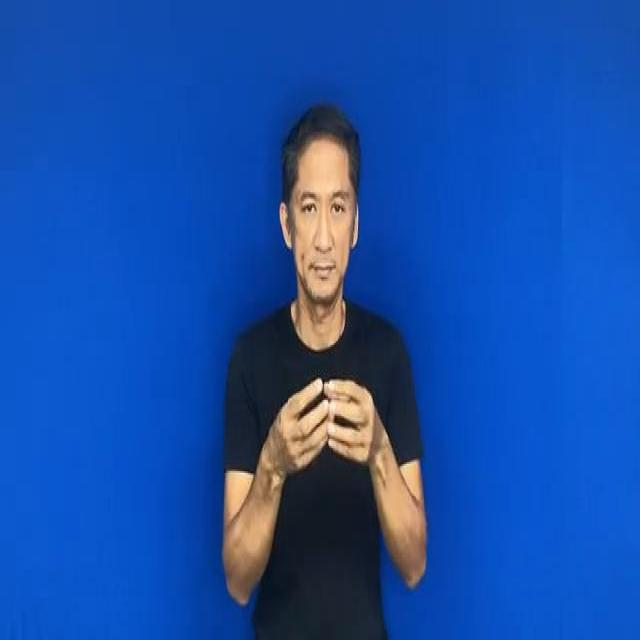egg: (239, 367, 407, 476)
